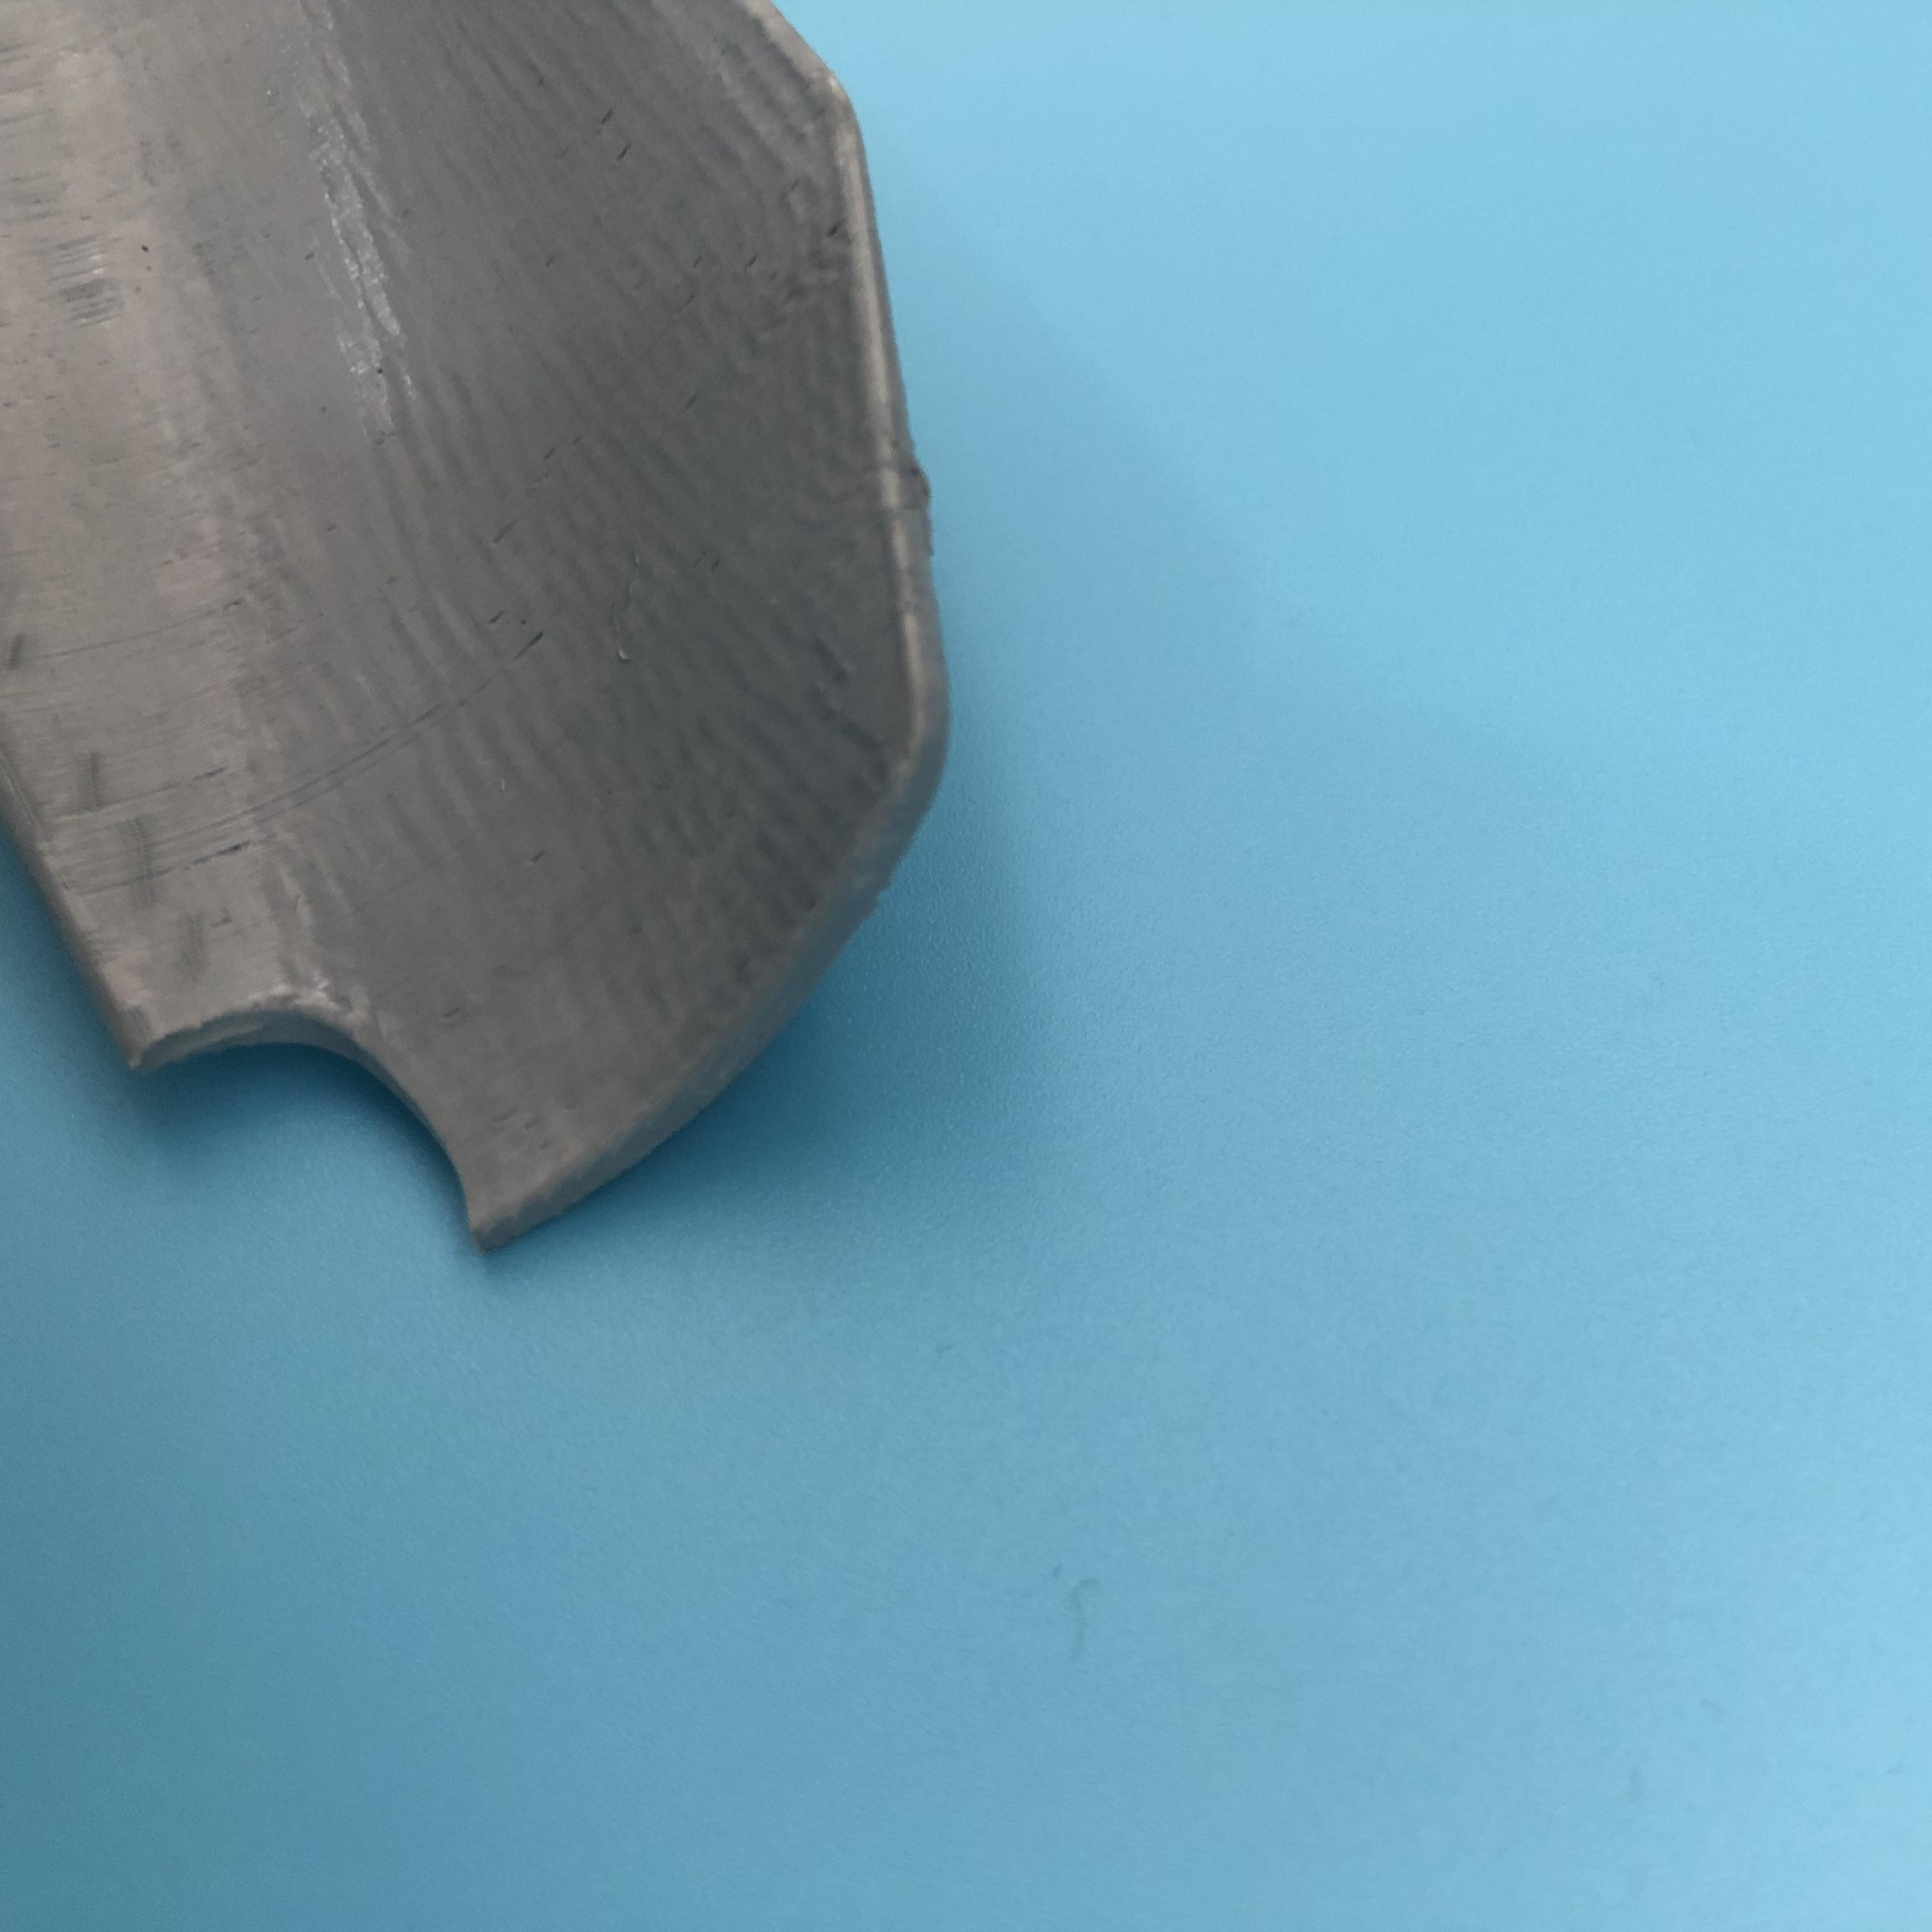fracture: (198, 977, 458, 1244)
